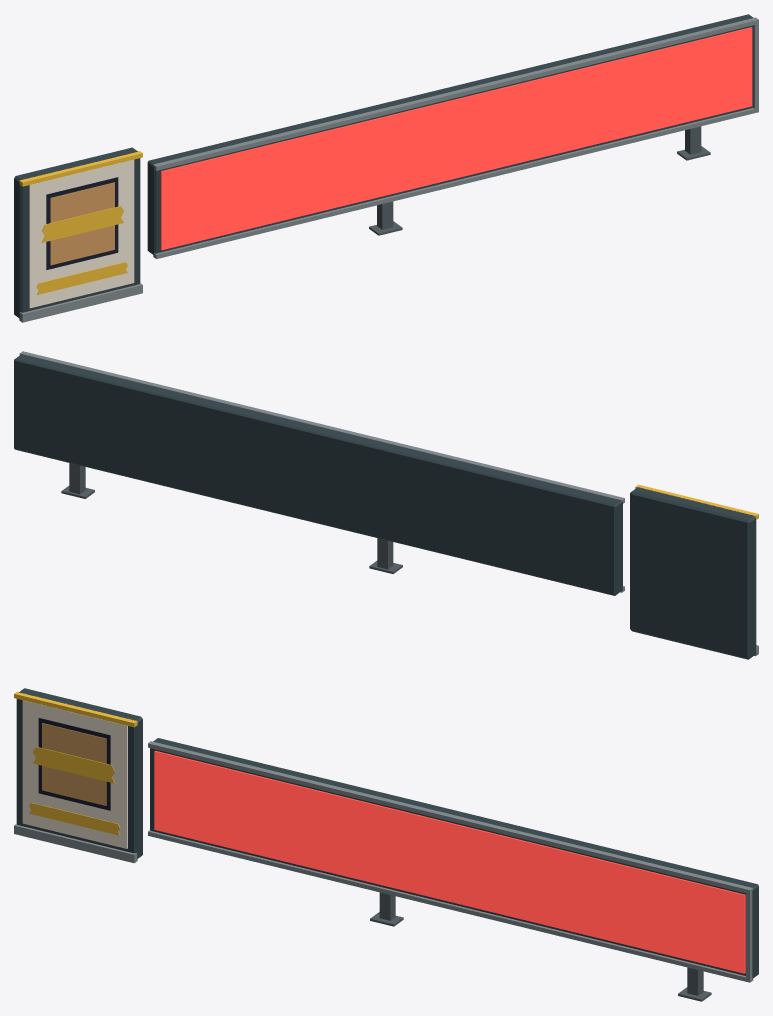
The model's file is sm_env_shed_sign_logistics.glb.
The picture shows the model from 3 angles, top to bottom: view 1: azimuth 30°, elevation 25°; view 2: azimuth 150°, elevation 25°; view 3: azimuth 330°, elevation 25°; orthographic projection.
Visible parts, largest first — view 1: Face, Band, PylonFace, LipTop, Pylon, LipBottom, Brand, BrandTape, PylonFoot, BrandInk, PylonTape, PylonCap (+1 smaller); view 2: Band, Pylon, LipTop; view 3: Face, Band, PylonFace, LipTop, Pylon, LipBottom, Brand, BrandTape, PylonFoot, BrandInk, PylonTape, PylonCap (+1 smaller).
Part boxes in pixels (x1,y1,x2,y2): Face: (161,27,752,250); Band: (147,14,753,254); PylonFace: (29,159,134,308); LipTop: (153,17,758,170); Pylon: (14,147,140,318); LipBottom: (153,108,758,258); Brand: (50,182,114,265); BrandTape: (41,206,123,242); PylonFoot: (19,283,142,322); BrandInk: (46,177,118,269); PylonTape: (36,262,127,294); PylonCap: (19,151,142,186); Band: (14,354,622,595); Pylon: (630,487,756,659); LipTop: (19,351,624,503); Face: (154,750,745,973); Band: (150,738,758,978); PylonFace: (22,700,127,848); LipTop: (148,741,753,893); Pylon: (16,688,142,858); LipBottom: (148,830,753,982); Brand: (42,723,106,805); BrandTape: (33,746,115,783); PylonFoot: (14,823,137,863); BrandInk: (38,718,110,810); PylonTape: (29,802,119,835); PylonCap: (14,691,137,727).
Bounding box in the file's own units: 11 × 2 × 0.259.
